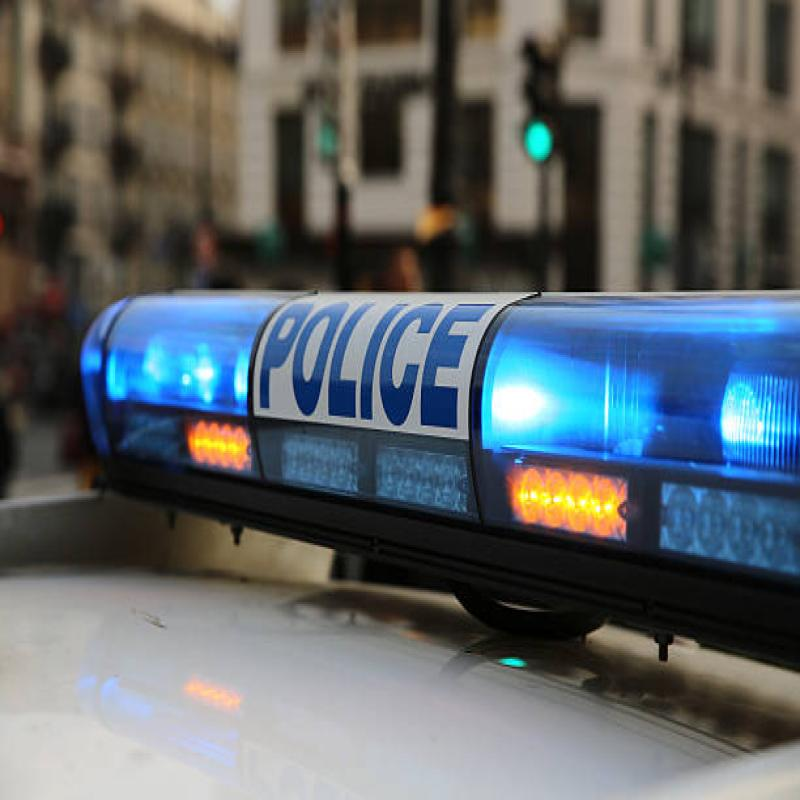AmbulanceSiren: (33, 219, 800, 653)
